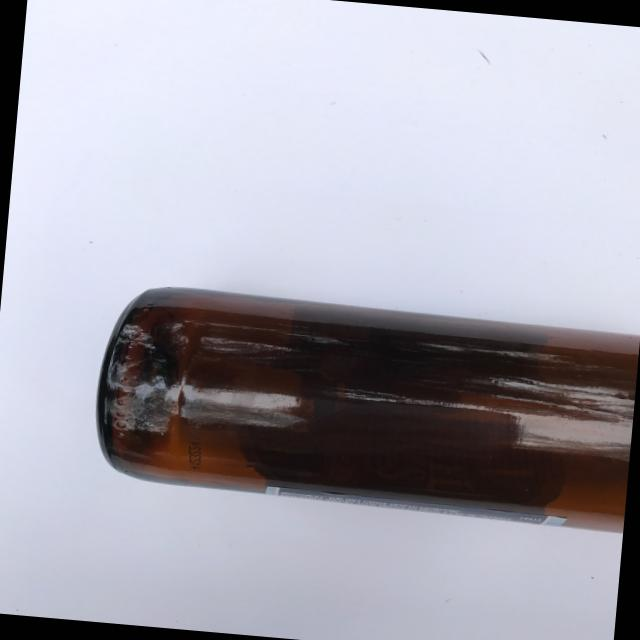Glass: (72, 272, 640, 547)
